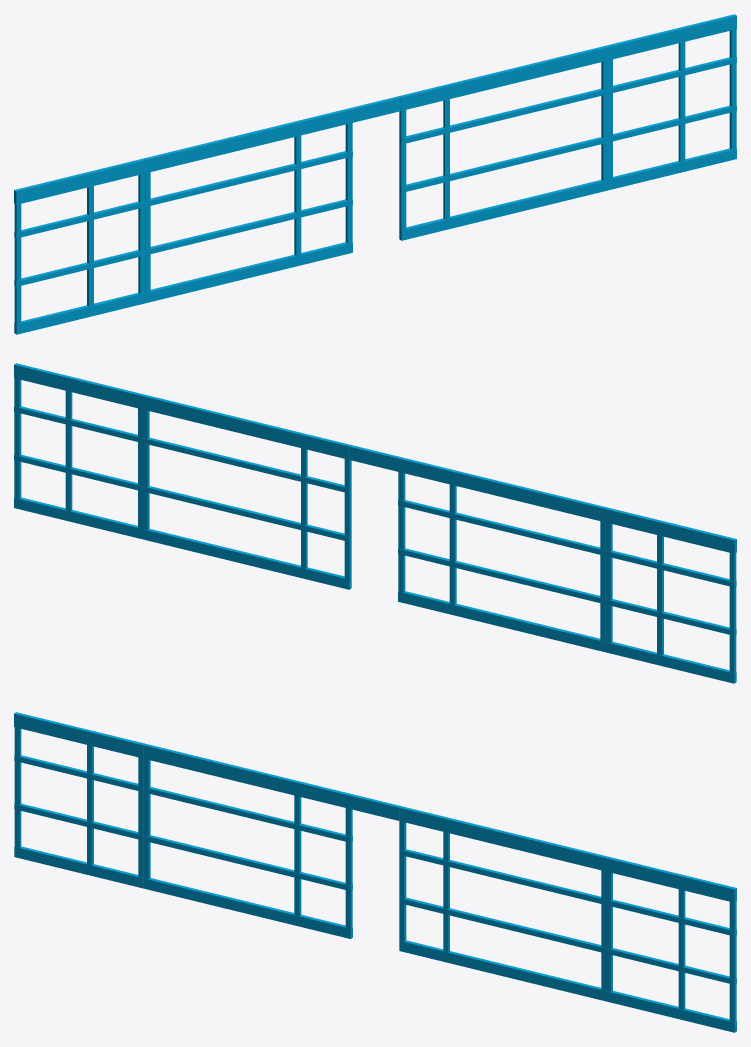
File: Warehouse_01_Window_S_04.fbx
The picture shows the model from 3 angles, top to bottom: view 1: azimuth 30°, elevation 25°; view 2: azimuth 150°, elevation 25°; view 3: azimuth 330°, elevation 25°; orthographic projection.
Parts seen in each view (by area): view 1: Warehouse_01_Window_S_04; view 2: Warehouse_01_Window_S_04; view 3: Warehouse_01_Window_S_04.
Boxes of the visible parts, x1=… form: Warehouse_01_Window_S_04: x1=14, y1=14, x2=736, y2=334; Warehouse_01_Window_S_04: x1=14, y1=363, x2=736, y2=683; Warehouse_01_Window_S_04: x1=14, y1=712, x2=736, y2=1032.
Size of the model in its own units: 1780 by 338 by 9.28.
